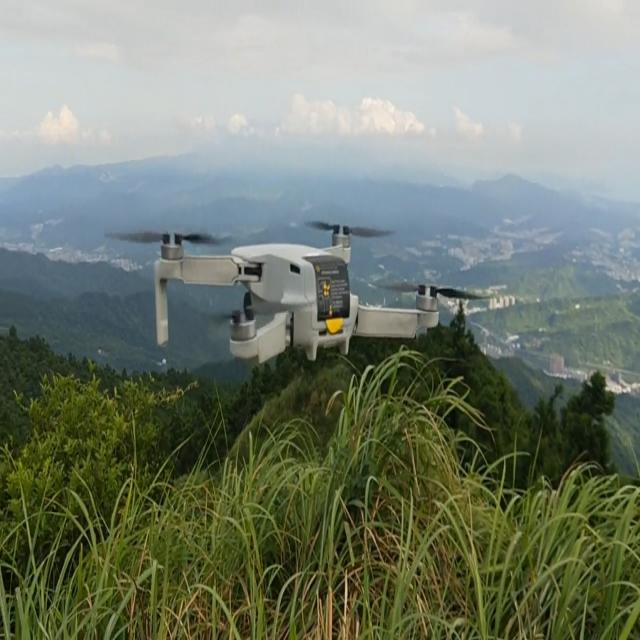Drone: (156, 231, 458, 377)
